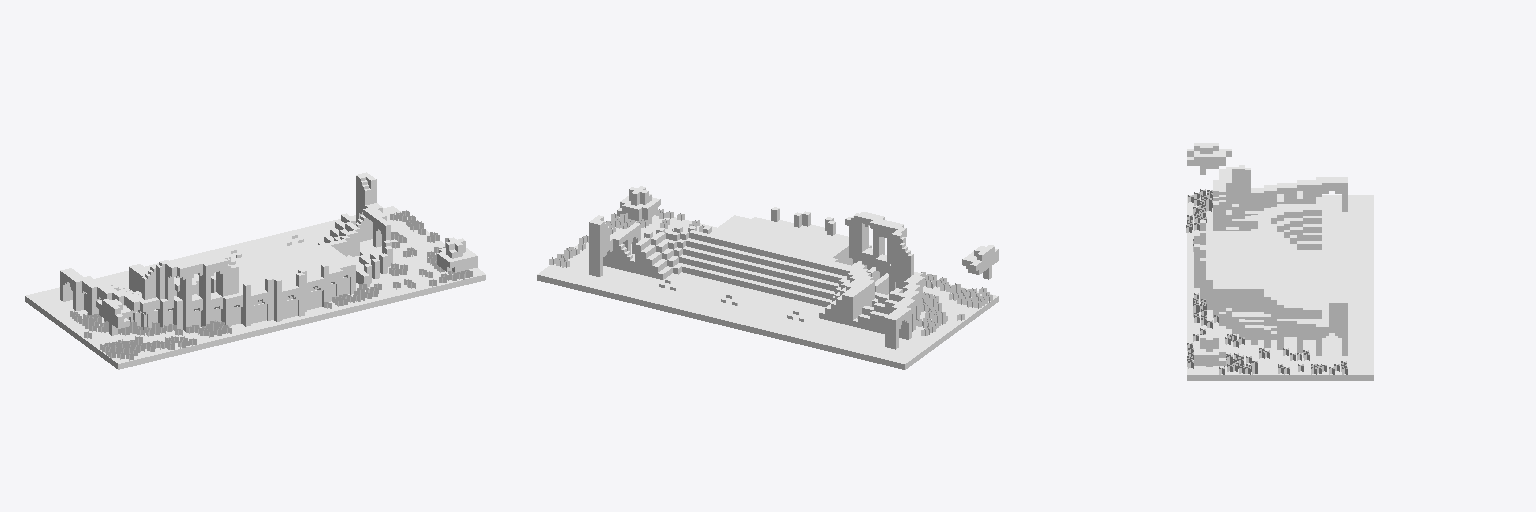
Rendered from mine.obj.
3 renders of one model, left to right at view 1: azimuth 30°, elevation 25°; view 2: azimuth 150°, elevation 25°; view 3: azimuth 270°, elevation 25°, orthographic.
Visible parts, largest first — view 1: world__-555_3_43_to_-490_255_71; view 2: world__-555_3_43_to_-490_255_71; view 3: world__-555_3_43_to_-490_255_71.
Boxes of the visible parts, box(x1,y1,x2,y2) form: world__-555_3_43_to_-490_255_71: box(25, 172, 485, 369); world__-555_3_43_to_-490_255_71: box(537, 186, 998, 369); world__-555_3_43_to_-490_255_71: box(1186, 143, 1373, 380).
Bounding box in the file's own units: 66.24 × 12 × 29.14.